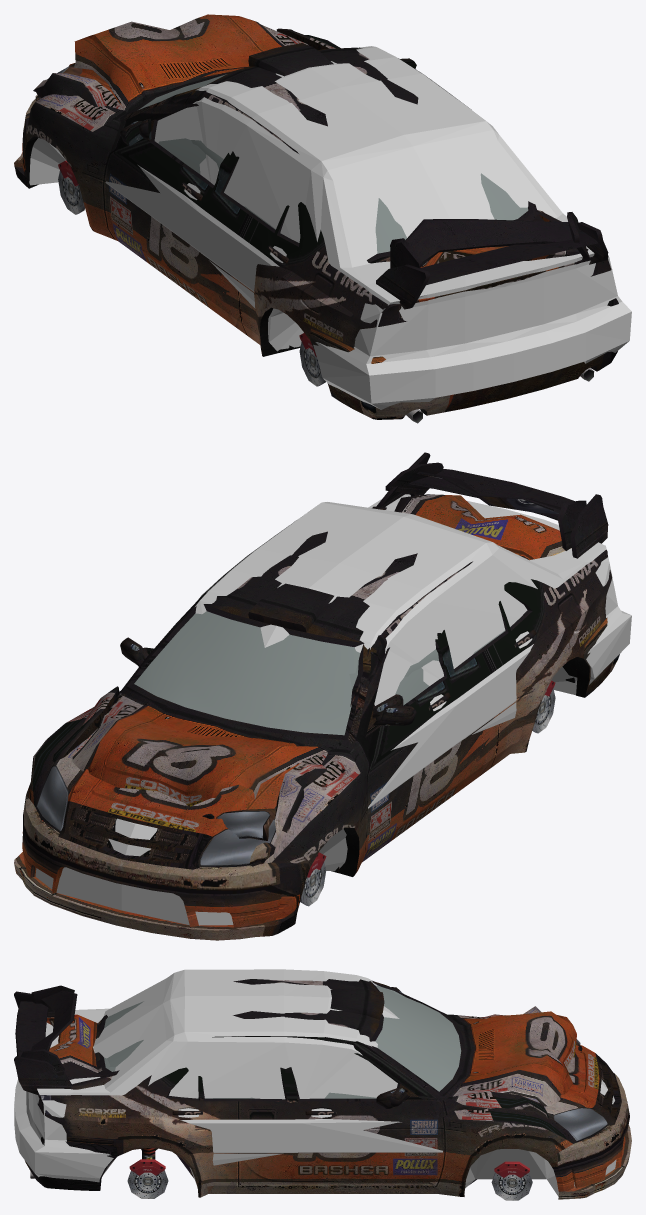
File: body_out.glb
3 views of the same model, one above another, from view 1: azimuth 30°, elevation 25°; view 2: azimuth 150°, elevation 25°; view 3: azimuth 270°, elevation 25° (orthographic). The views are drawn at different scales.
Visible parts, largest first — view 1: body_shadow, Surface23, Surface41_crash, Surface55, Surface53, Surface42, Surface15_crash, Surface15, Surface20, Surface27, Surface53_crash, wheelhub_fl (+5 smaller); view 2: body_shadow, Surface23, Surface26, Surface17, Surface41_crash, Surface55, Surface42, Surface41, Surface53, Surface19, Surface16_crash, Surface15 (+11 smaller); view 3: body_shadow, Surface23, Surface49, Surface41_crash, Surface60, Surface51, Surface26, Surface17, Surface15, Surface16_crash, Surface41, Surface15_crash (+8 smaller).
Boxes of the visible parts, x1,y1,x2,y2 form: body_shadow: (29, 46, 631, 409); Surface23: (114, 43, 615, 357); Surface41_crash: (74, 14, 317, 112); Surface55: (105, 100, 235, 296); Surface53: (26, 94, 120, 240); Surface42: (200, 156, 303, 336); Surface15_crash: (390, 212, 590, 268); Surface15: (376, 222, 608, 309); Surface20: (310, 298, 618, 419); Surface27: (375, 173, 519, 253); Surface53_crash: (33, 73, 124, 110); wheelhub_fl: (58, 160, 84, 214); body_shadow: (35, 494, 631, 925); Surface23: (120, 521, 612, 862); Surface26: (134, 611, 360, 735); Surface17: (14, 795, 310, 940); Surface41_crash: (72, 694, 332, 806); Surface55: (361, 633, 462, 849); Surface42: (442, 585, 553, 782); Surface41: (51, 694, 346, 836); Surface53: (264, 747, 367, 875); Surface19: (58, 801, 211, 869); Surface16_crash: (394, 494, 571, 560); Surface15: (376, 452, 608, 558); body_shadow: (14, 969, 616, 1196); Surface23: (37, 979, 472, 1197); Surface49: (285, 1050, 442, 1185); Surface41_crash: (452, 1011, 576, 1106); Surface60: (161, 1067, 295, 1186); Surface51: (437, 1102, 577, 1196); Surface26: (375, 985, 461, 1091); Surface17: (548, 1073, 631, 1199); Surface15: (14, 991, 72, 1094); Surface16_crash: (46, 1014, 105, 1079); Surface41: (449, 1015, 599, 1119); Surface15_crash: (20, 985, 77, 1075).
Size of the model in its own units: 1.92 by 1.33 by 4.52.
